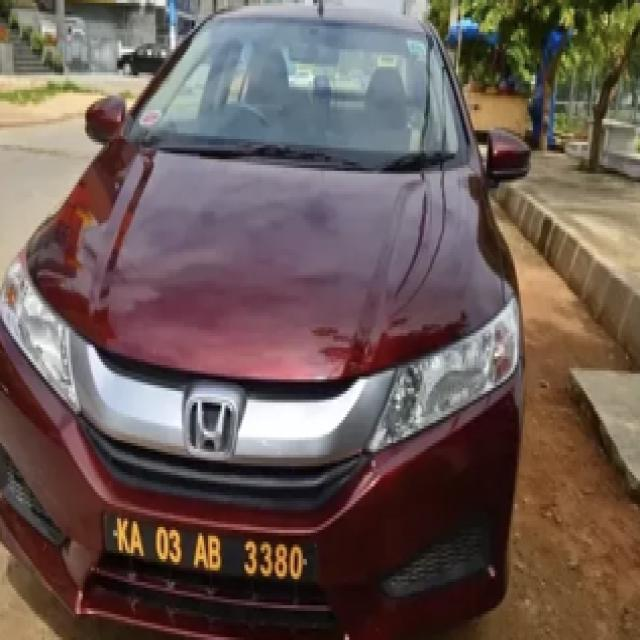license_plate: (107, 512, 315, 594)
